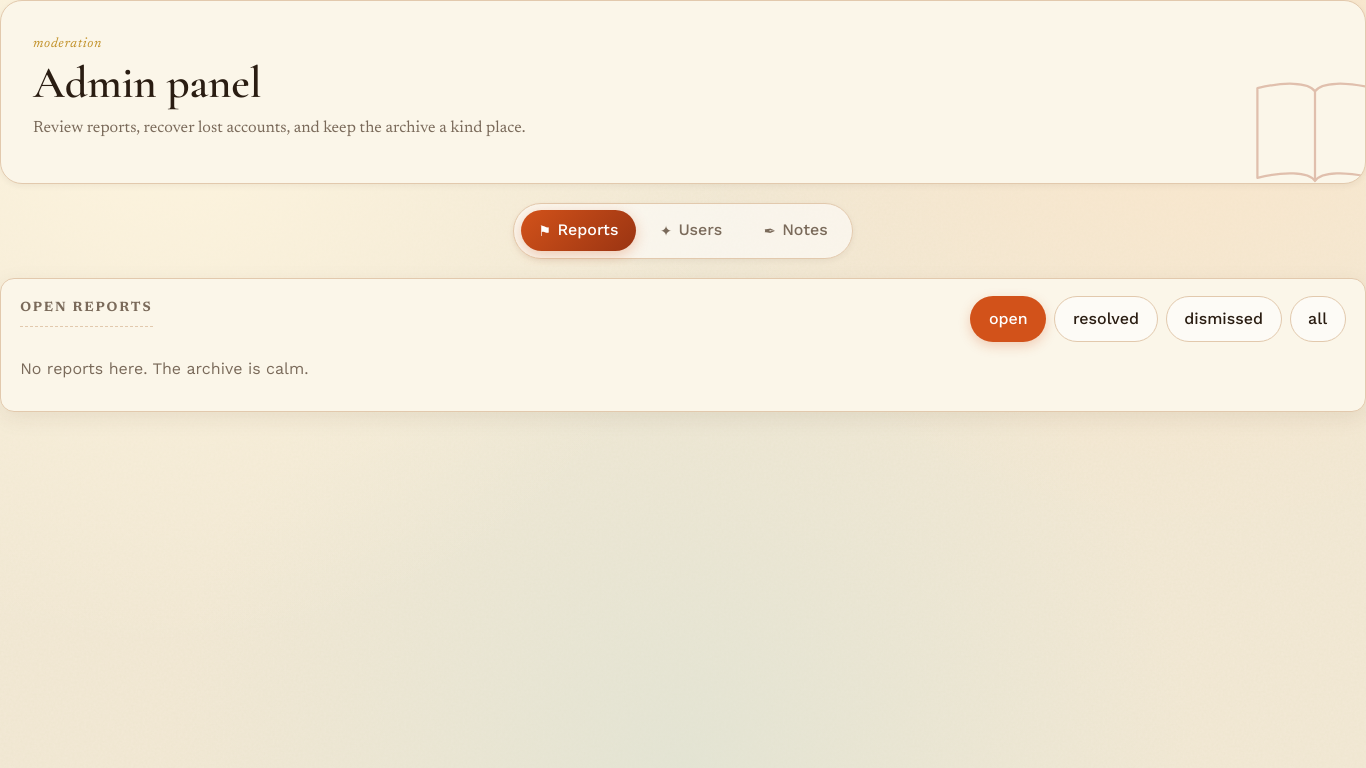
AdminDashboard › shows an error when the reset link cannot be issued
Click the button "✦ Users". click: click(691, 231)
box: x1=642 y1=210 x2=740 y2=251
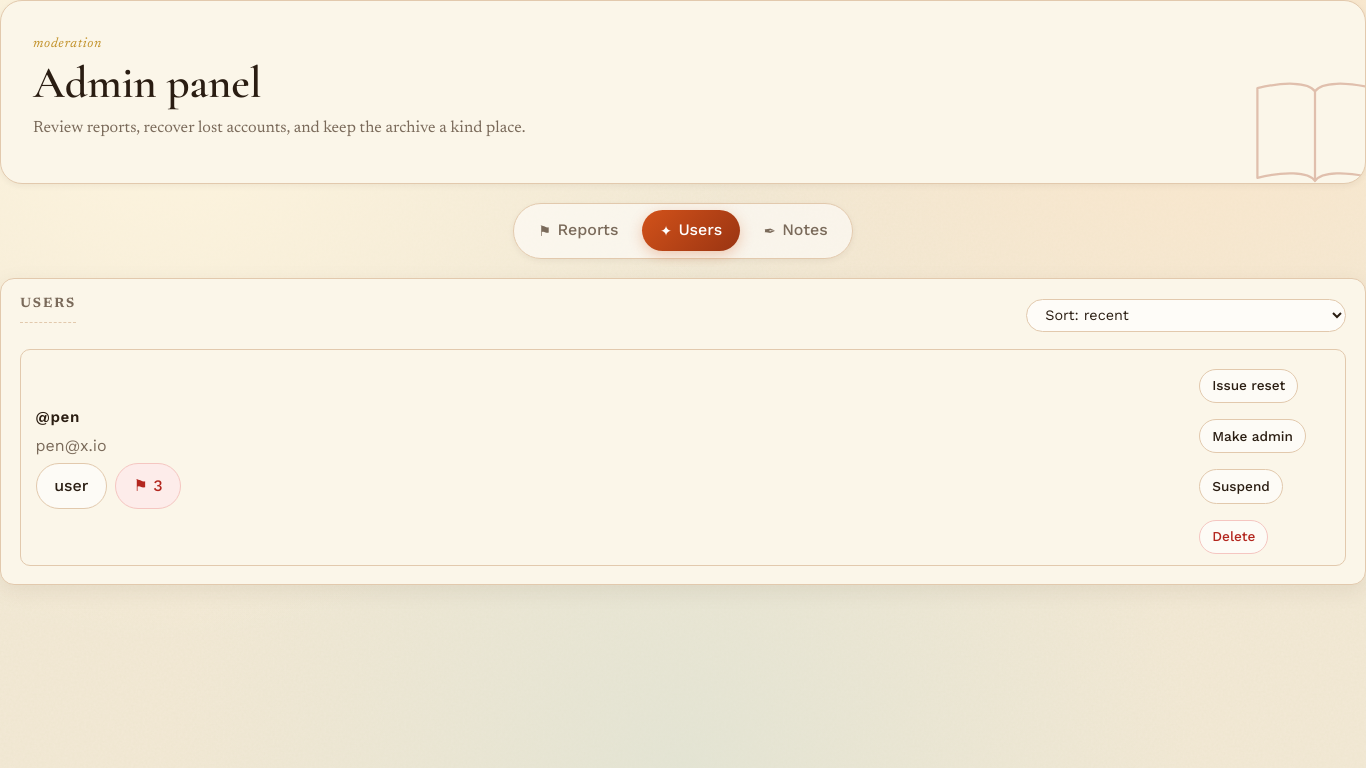
Result: the link "@pen" is shown at x1=36 y1=408 x2=80 y2=426
Click the button "Issue reset". click: click(1249, 386)
box: x1=1199 y1=369 x2=1298 y2=403
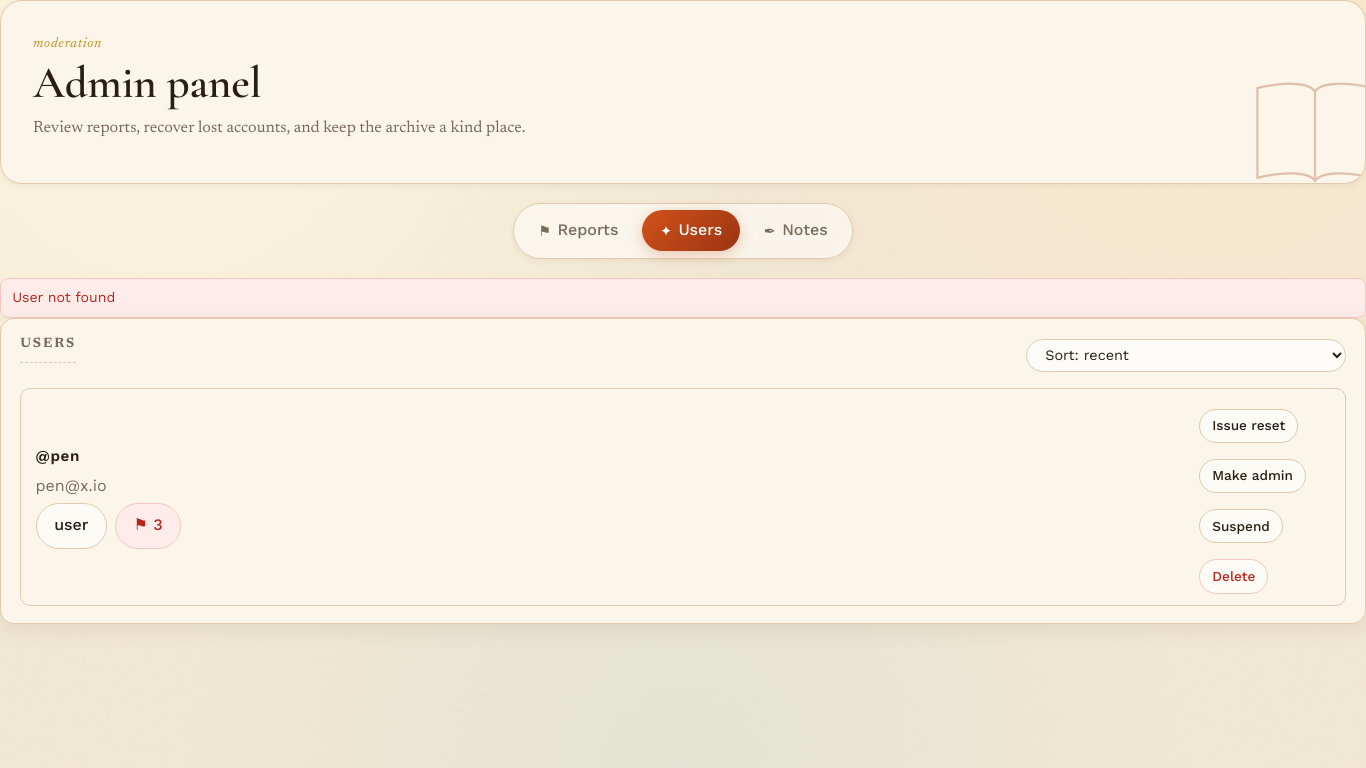
Result: the text "User not found" is shown at x1=0 y1=278 x2=1365 y2=318
